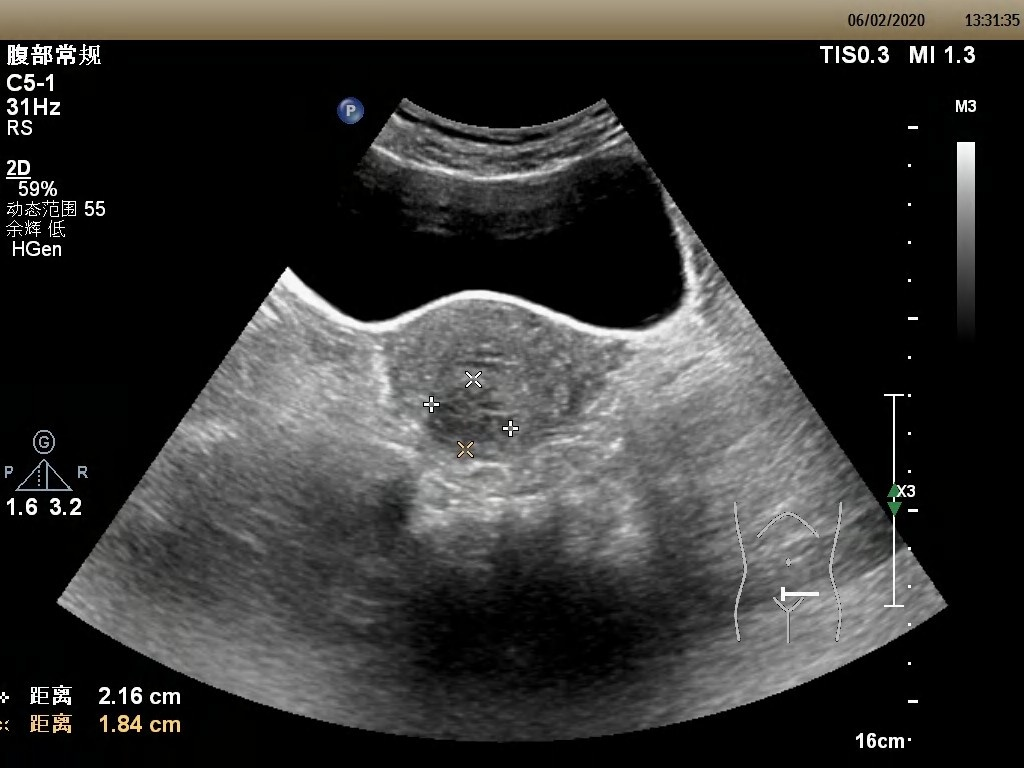肌瘤: (427, 391, 500, 446)
